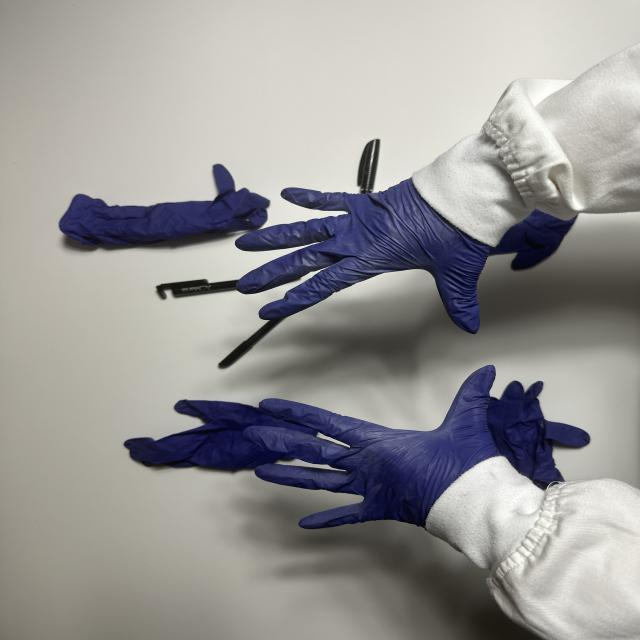gloves_contaminated: (243, 366, 498, 528), (236, 180, 489, 333)
